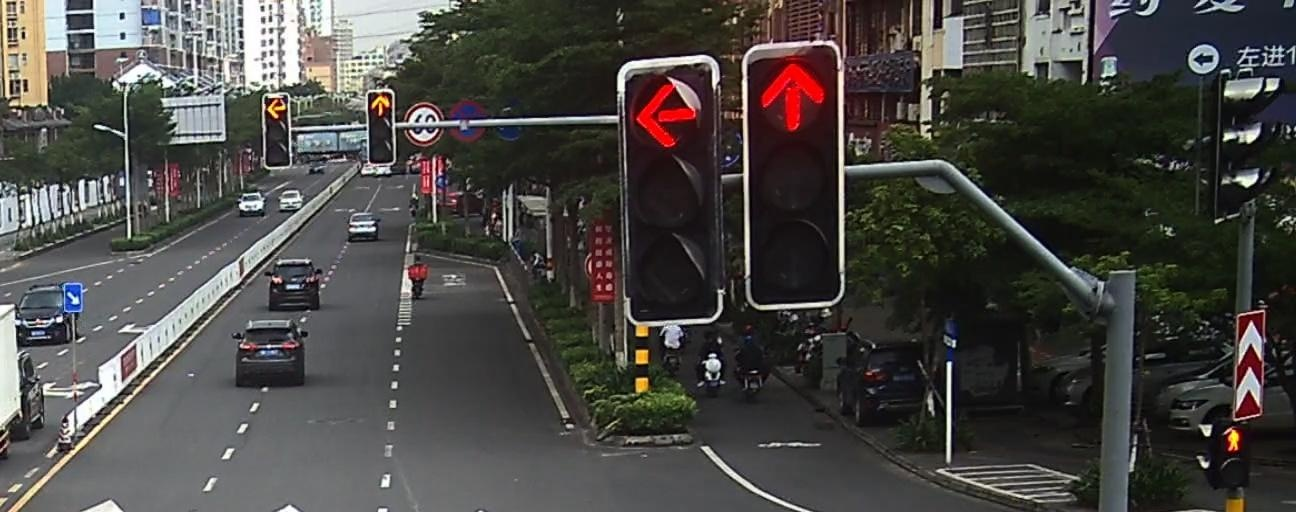redleft: (630, 82, 702, 148), (262, 97, 288, 121)
redpeople: (1222, 424, 1247, 454)
redstraight: (756, 58, 831, 134), (368, 92, 393, 119)
